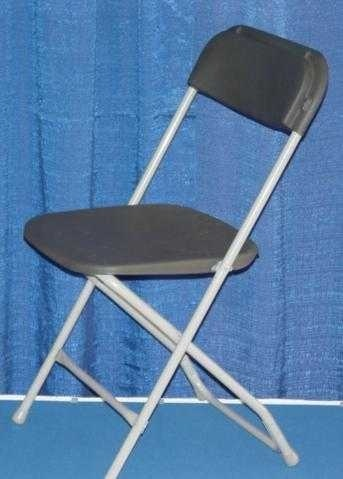obstacle: (12, 26, 327, 478)
